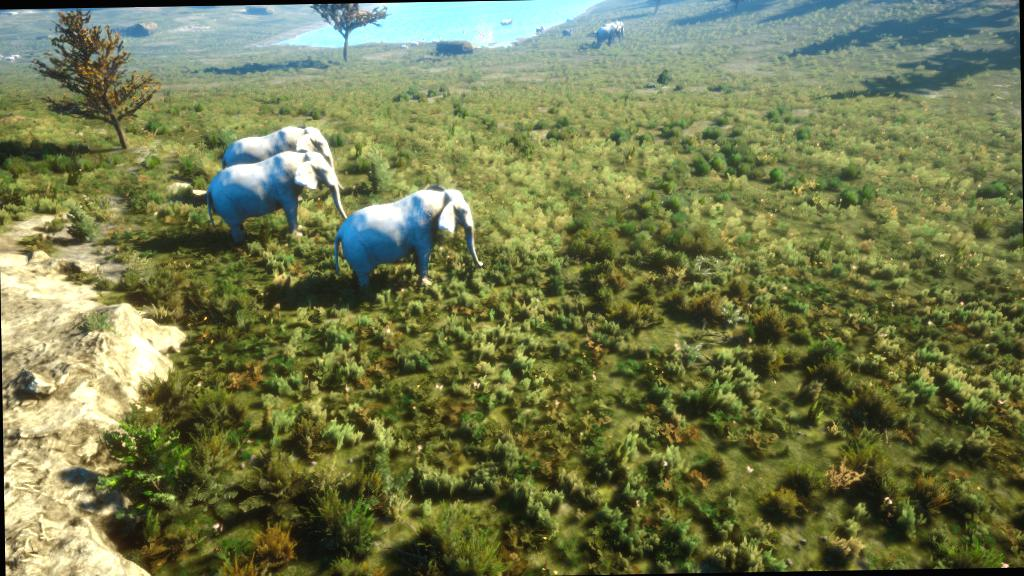Fire: (474, 24, 494, 44)
elephant: (317, 176, 490, 308), (200, 144, 336, 253), (209, 118, 343, 190), (600, 19, 628, 39), (594, 26, 622, 46)
hippopotamus: (560, 27, 578, 39)
human: (512, 39, 520, 50), (436, 34, 444, 42), (460, 28, 466, 38), (420, 34, 426, 44)
lion: (532, 24, 546, 34)
pig: (408, 38, 420, 46), (399, 44, 409, 50)
rhinoceros: (500, 17, 514, 27)
zebra: (564, 15, 576, 23)
